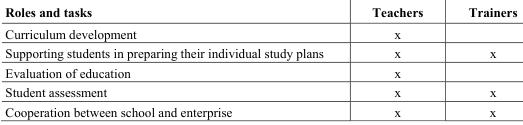table: (4, 4, 516, 118)
table column: (4, 4, 347, 118), (347, 4, 445, 118), (445, 4, 516, 118)
table column header: (4, 4, 516, 22)
table row: (4, 22, 516, 43), (4, 62, 516, 82), (4, 43, 516, 62), (4, 82, 516, 101), (4, 4, 516, 22), (4, 101, 516, 118)
